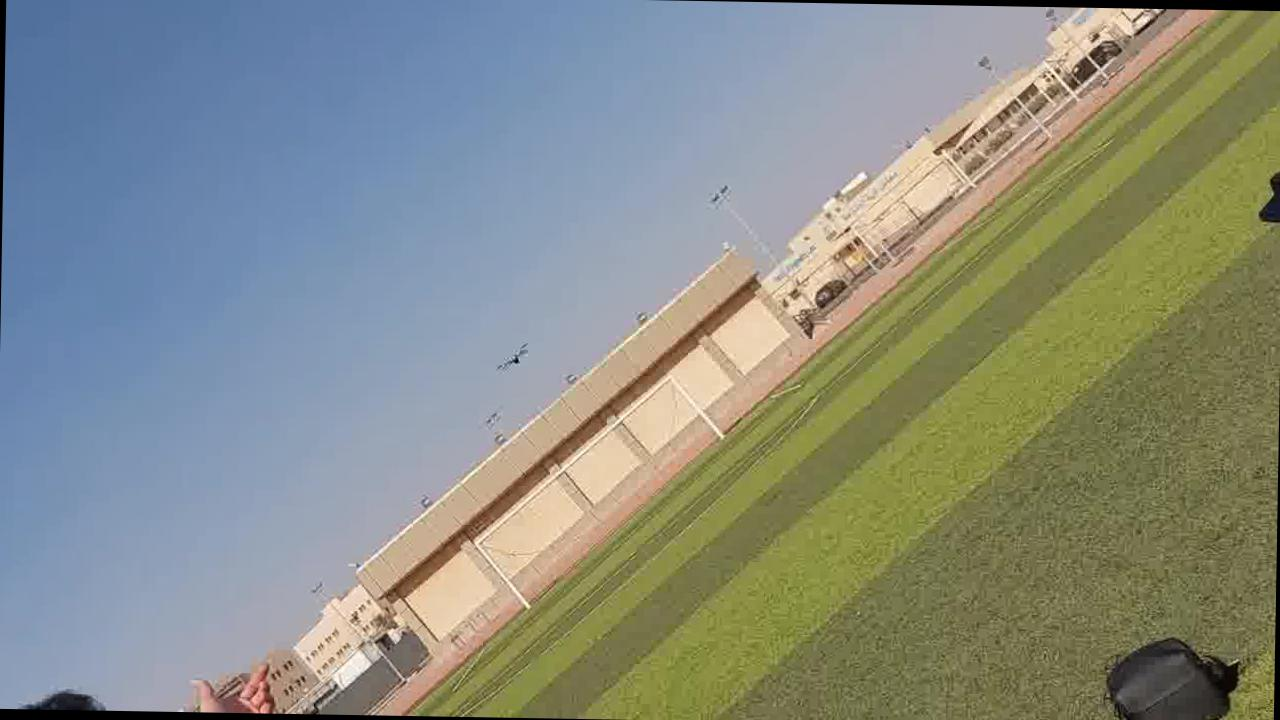drone: (476, 332, 542, 386)
